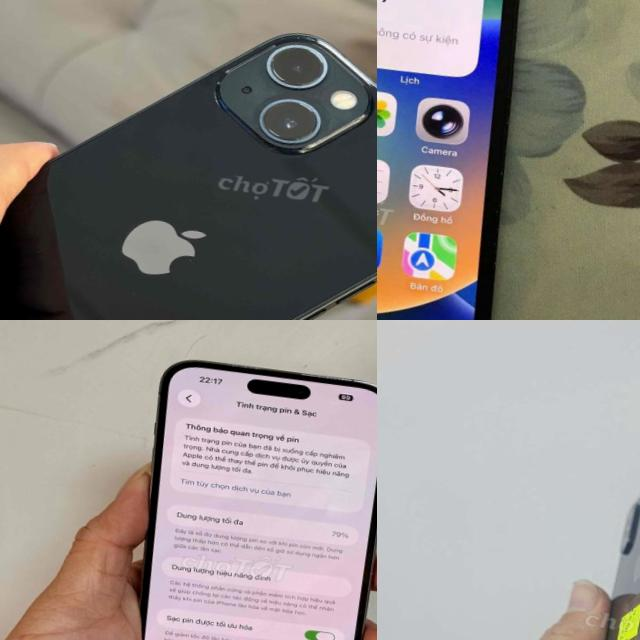gen_12_13: (0, 0, 377, 320), (377, 0, 565, 320)
gen_14: (110, 352, 377, 640)
